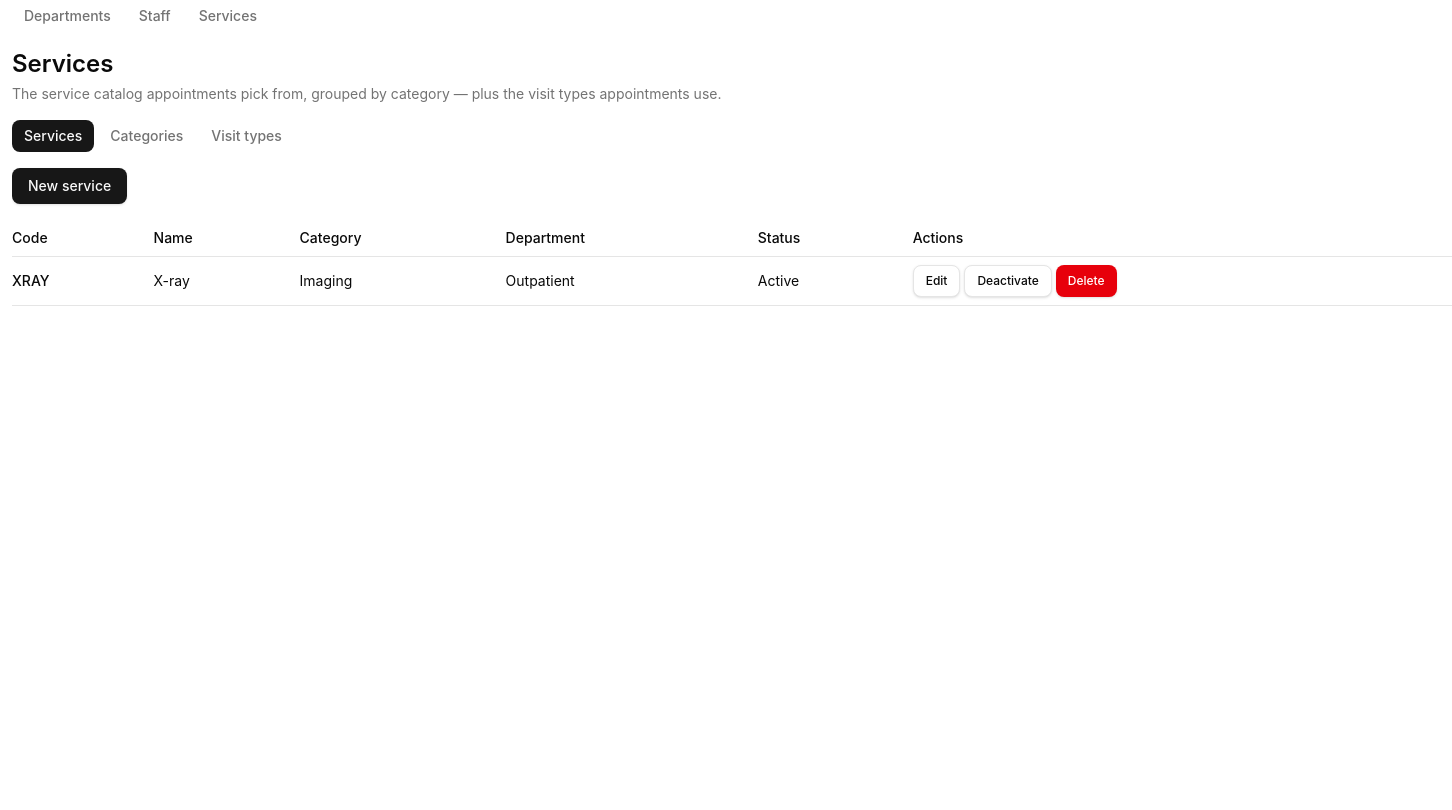
Scenario: ServicesPage › keeps a deactivated category when editing the service that uses it
Expected: the text "X-ray" is shown, [154, 256, 300, 306]
Click the button "Edit".
click(937, 281)  # box [913, 265, 960, 297]
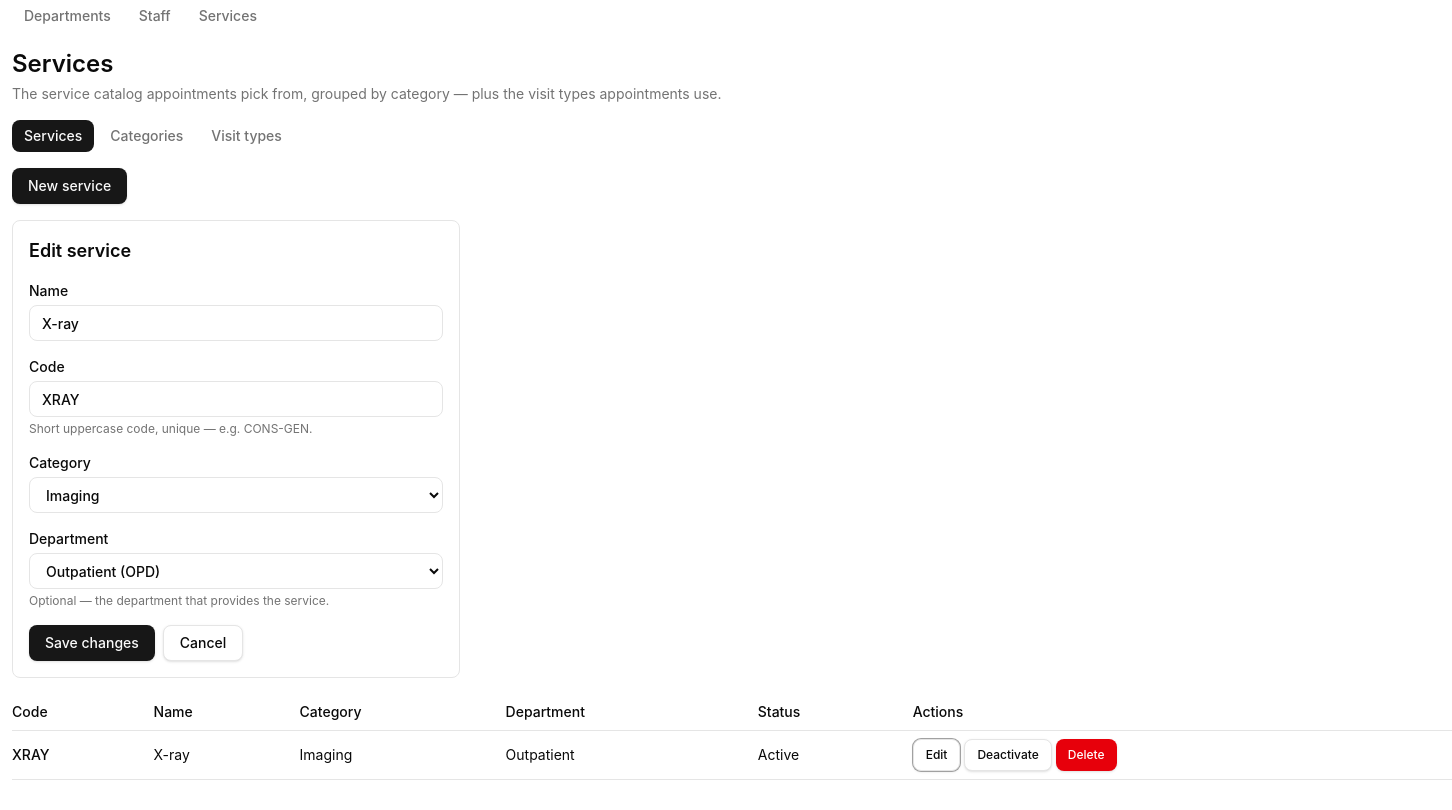
Expected: the dropdown labelled "Category" shows "Imaging", [29, 477, 443, 513]
